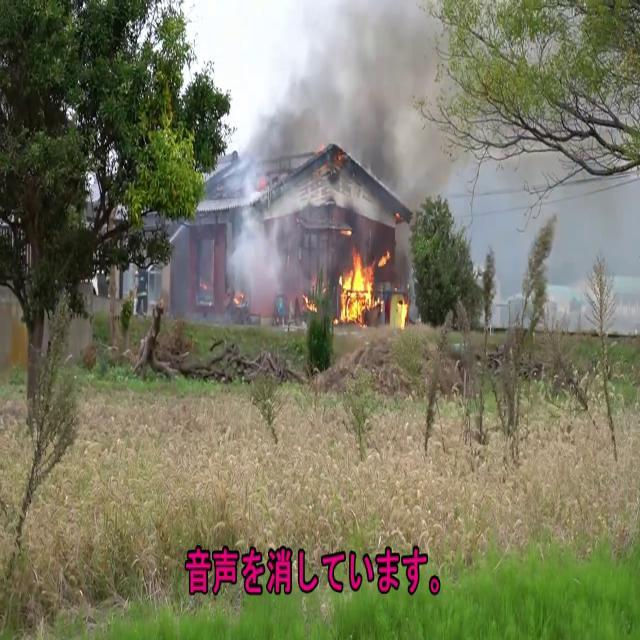Fire: (331, 238, 391, 324), (388, 288, 412, 330)
Smoke: (214, 0, 460, 206), (218, 207, 298, 328)
